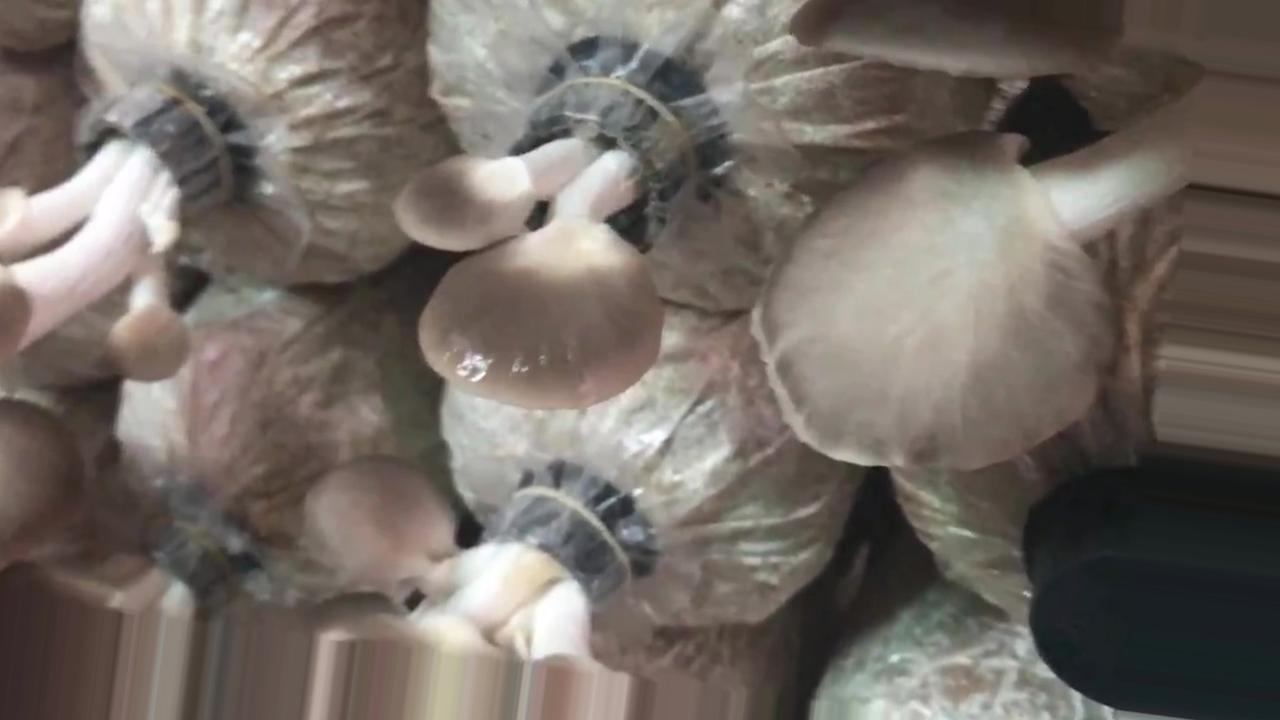nam: (757, 1, 1273, 473), (395, 59, 707, 414), (314, 468, 657, 720), (1, 73, 250, 383)
